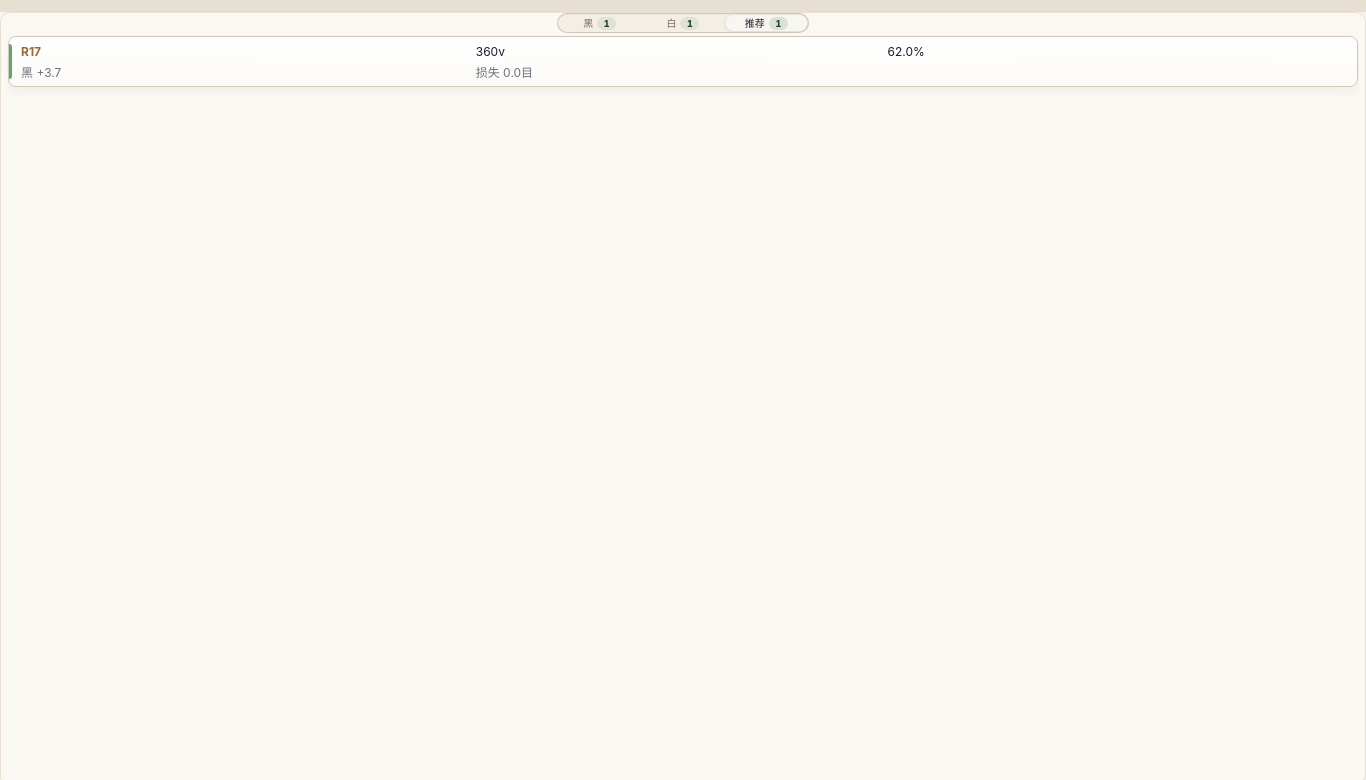
Test: AnalysisDetailTabs › switches between black bad moves, white bad moves, and candidate moves
Check: the tab named "黑恶手 1" shows "黑", box top-left (559, 15), bottom-right (640, 31)
Check: the tab named "白恶手 1" shows "白", box top-left (642, 15), bottom-right (724, 31)
Click the text "R17". click: click(31, 51)
box: top-left (21, 44), bottom-right (41, 58)
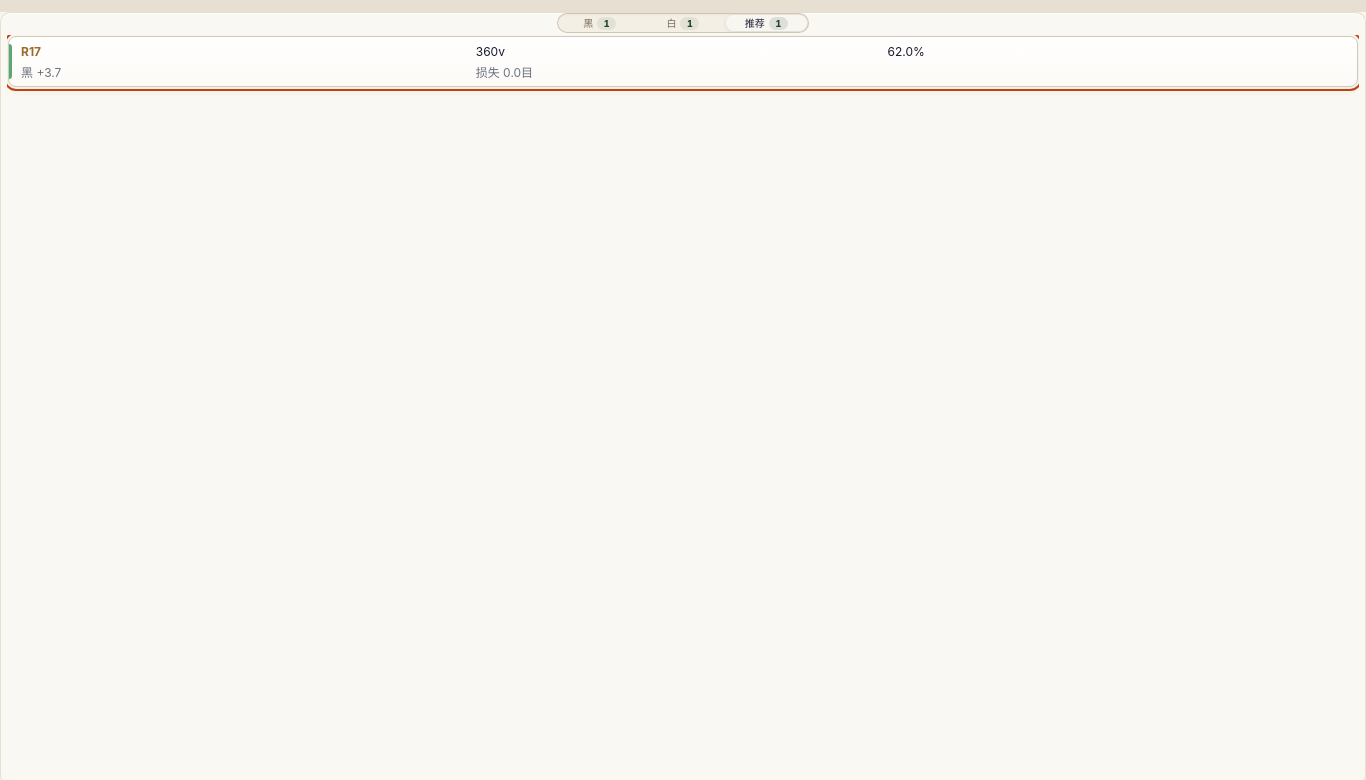
Click the tab named "黑恶手 1". click: click(600, 23)
box: top-left (559, 15), bottom-right (640, 31)
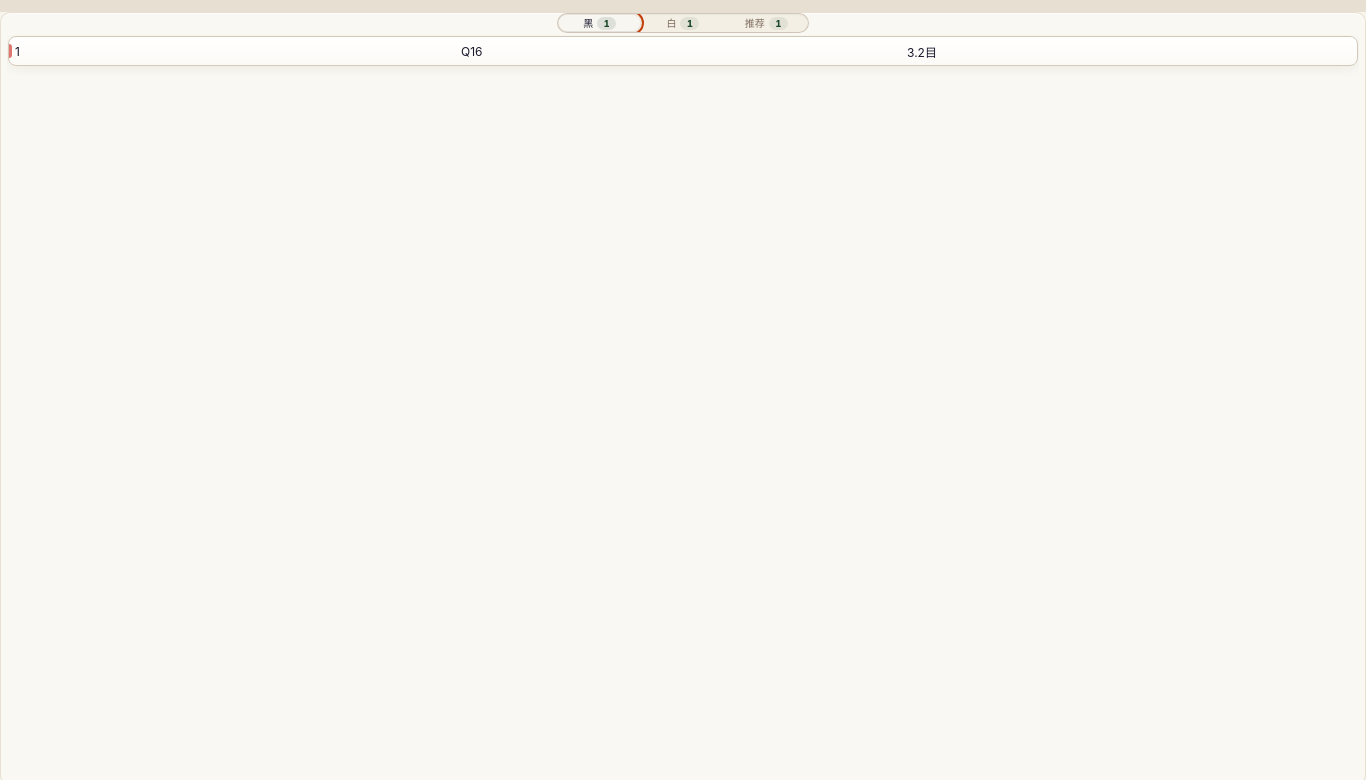
Check: the text "D4" is not shown
Check: the panel named "黑恶手 1" shows "Q16", box top-left (9, 37), bottom-right (1353, 65)
Check: the panel named "黑恶手 1" shows "3.2目", box top-left (8, 36), bottom-right (1358, 66)
Click the text "Q16". click: click(472, 51)
box: top-left (461, 44), bottom-right (482, 58)
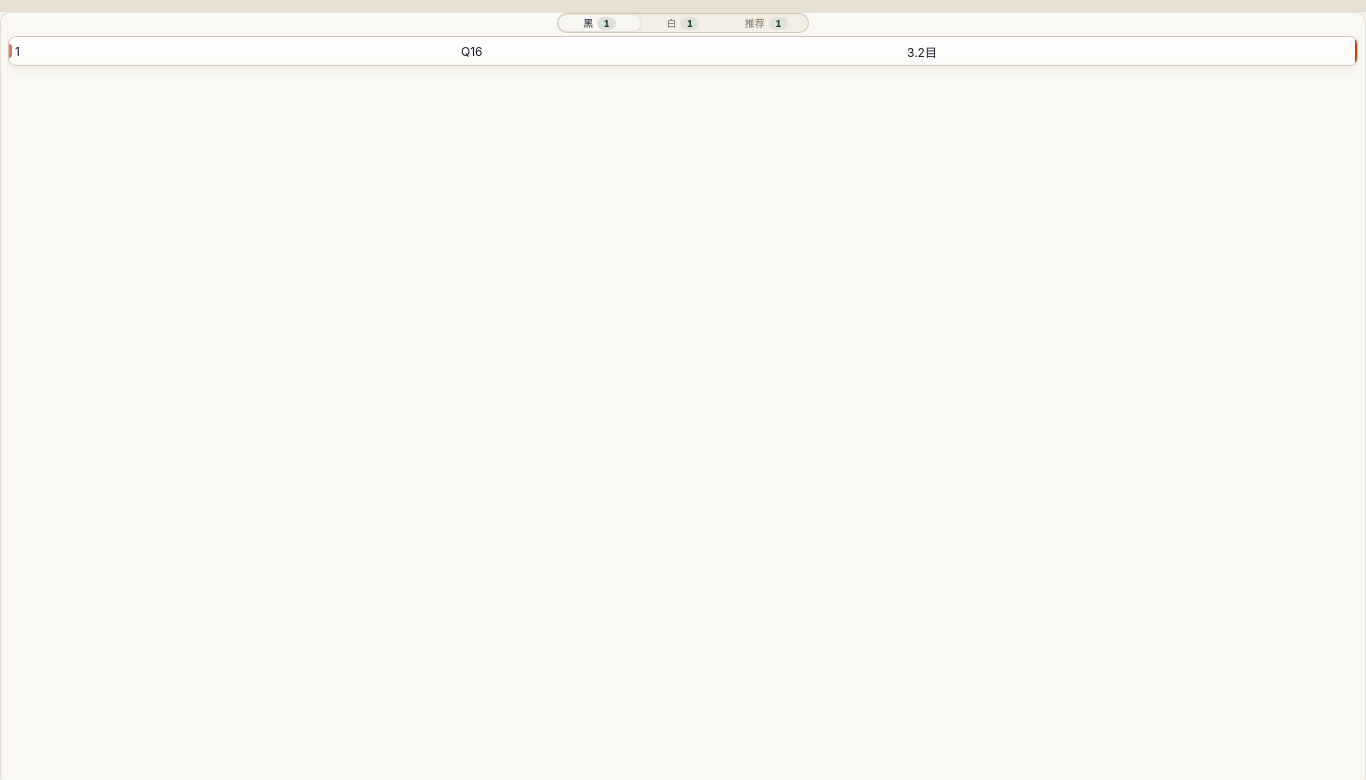
Click the tab named "白恶手 1". click: click(683, 23)
box: top-left (642, 15), bottom-right (724, 31)
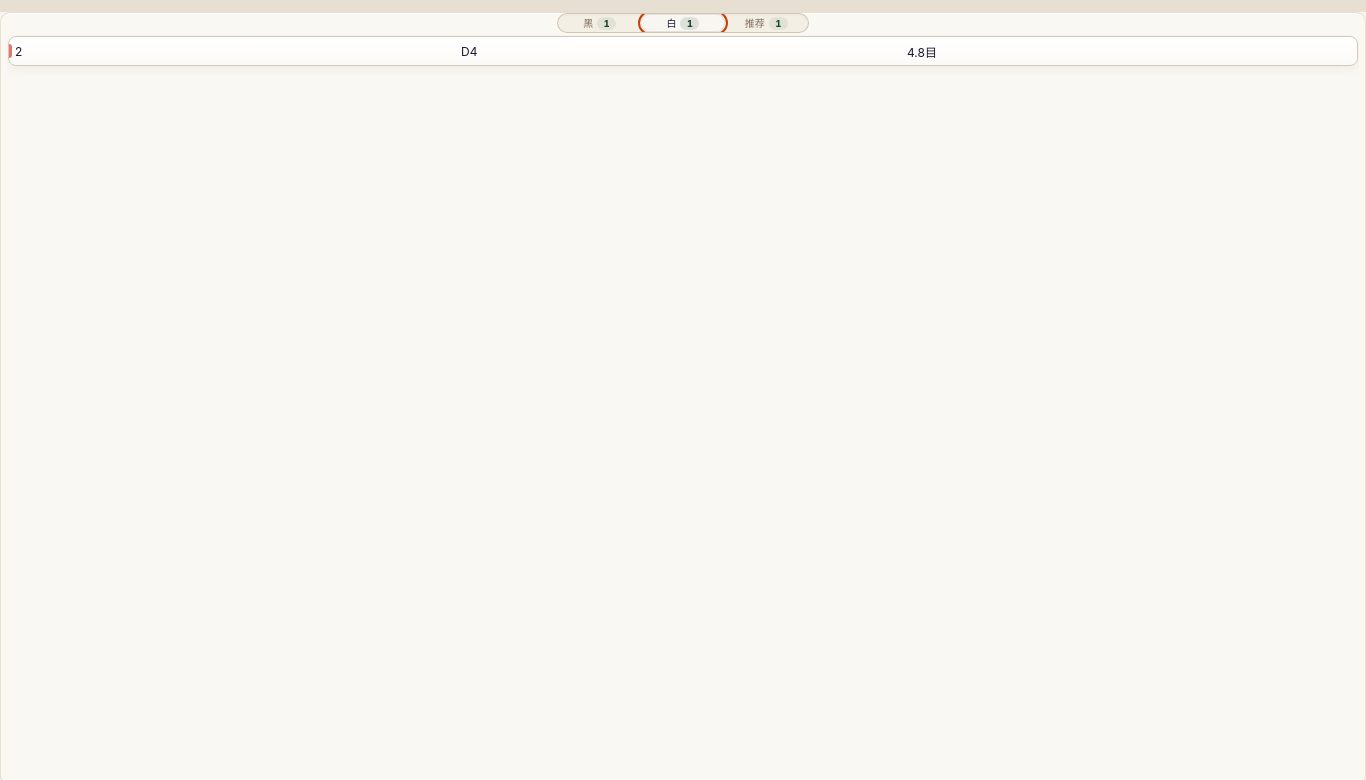
Check: the panel named "白恶手 1" shows "D4", box top-left (9, 37), bottom-right (1353, 65)
Check: the panel named "白恶手 1" shows "4.8目", box top-left (8, 36), bottom-right (1358, 66)
Check: the button "Q16" is gone
